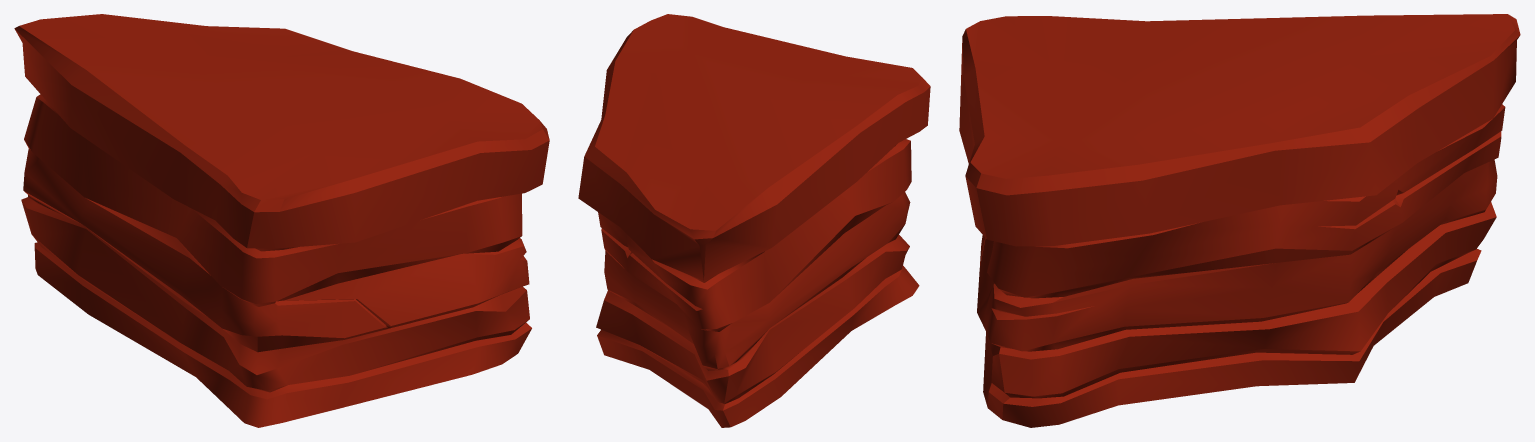
File: SM_Directional_Rock.fbx
The picture shows the model from 3 angles, left to right: view 1: azimuth 30°, elevation 25°; view 2: azimuth 150°, elevation 25°; view 3: azimuth 270°, elevation 25°; orthographic projection. The views are drawn at different scales.
Visible parts, largest first — view 1: Box016; view 2: Box016; view 3: Box016.
Boxes of the visible parts, <box> form: Box016: <box>14,14,549,427</box>; Box016: <box>578,14,930,427</box>; Box016: <box>959,14,1520,427</box>.
Bounding box in the file's own units: 1171 × 839 × 1596.
